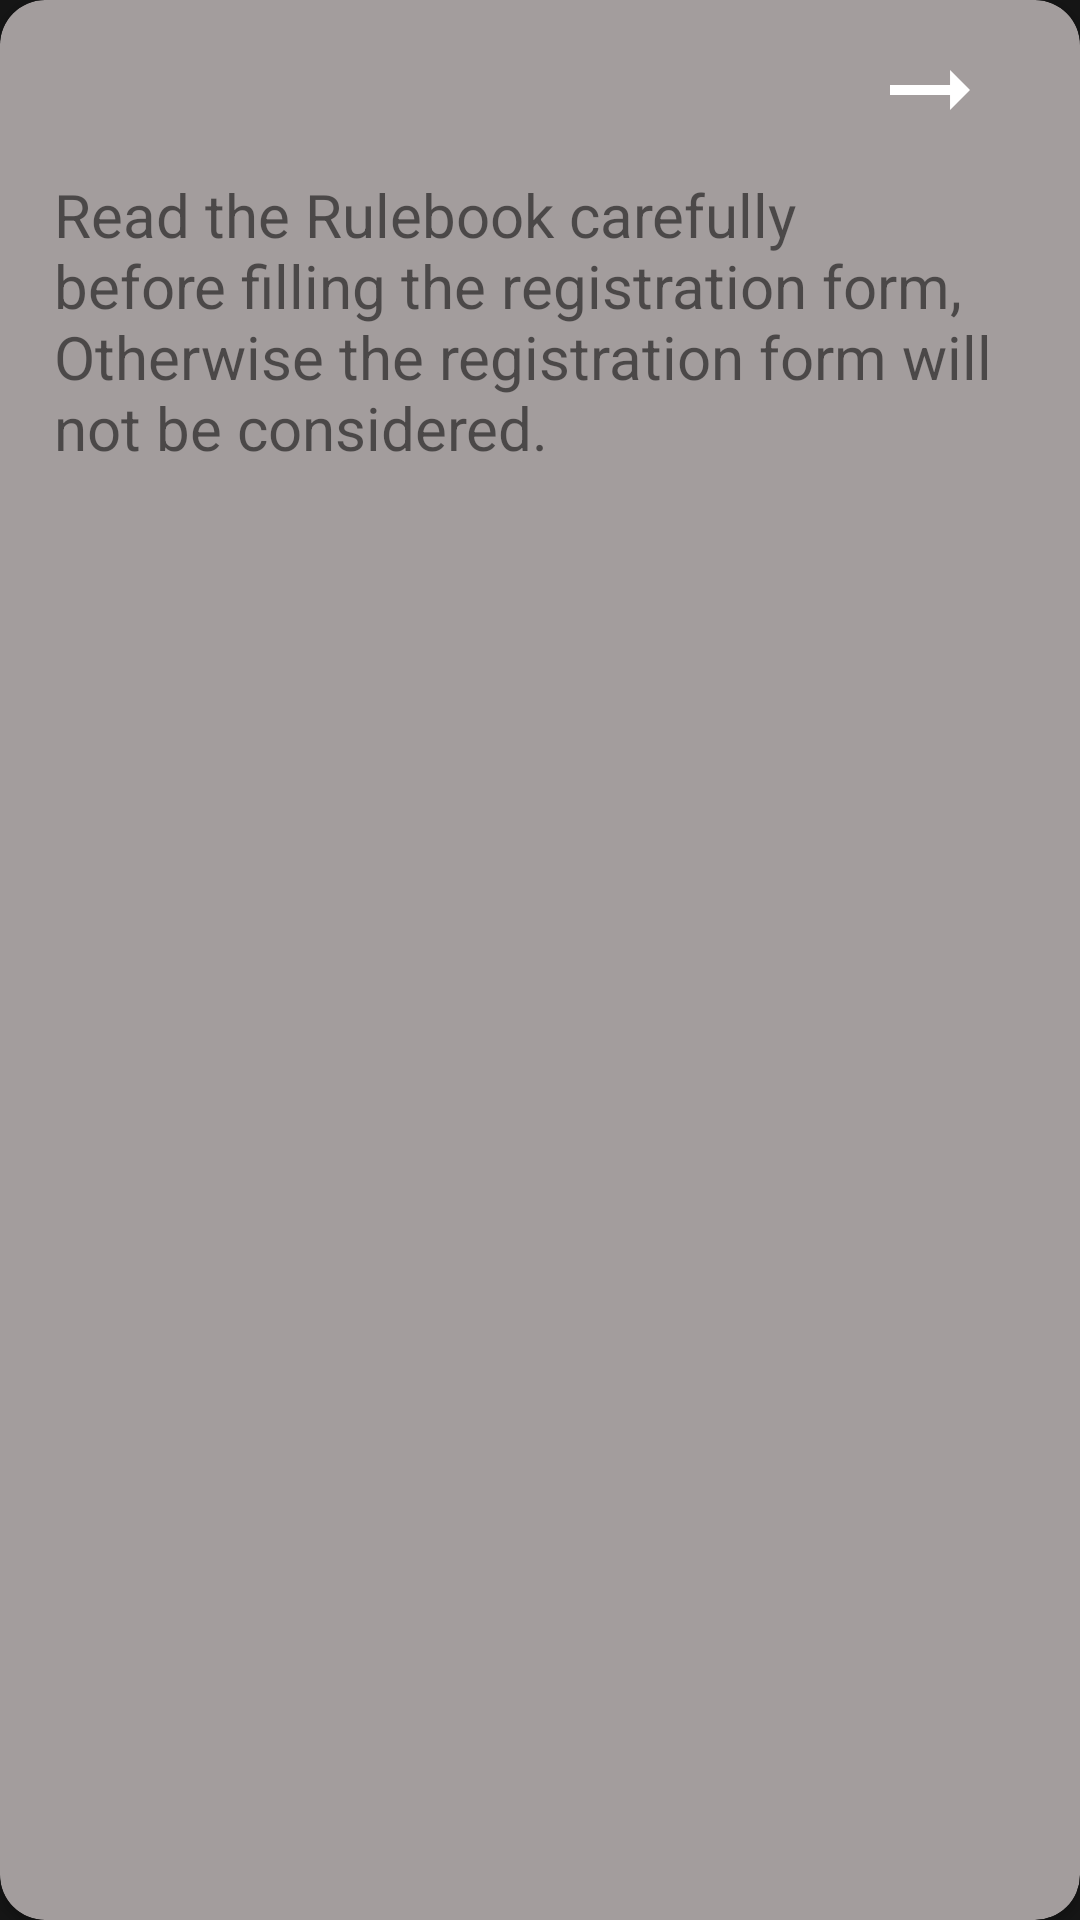

Screen size 1080*1920. Icon name, then its center in pixels as [x,y]:
arrow right: [930,90]
